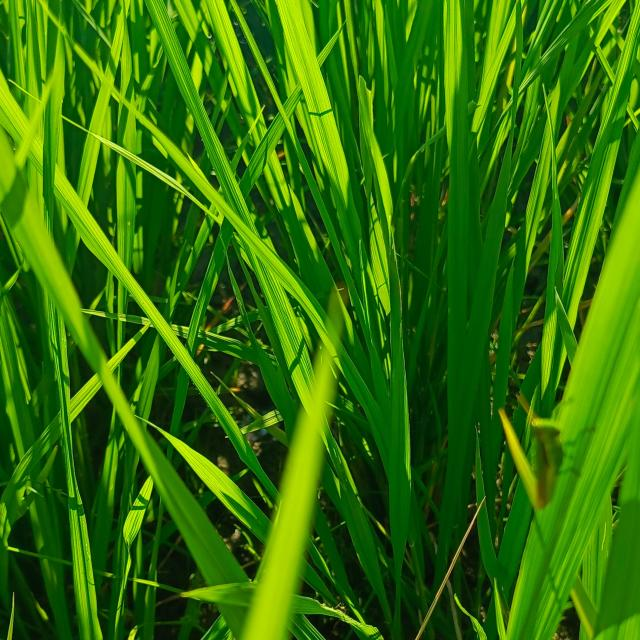belalang pada tanaman padi: (502, 374, 598, 537)
rice leaf roller -penggulung daun padi-: (2, 1, 638, 636)
